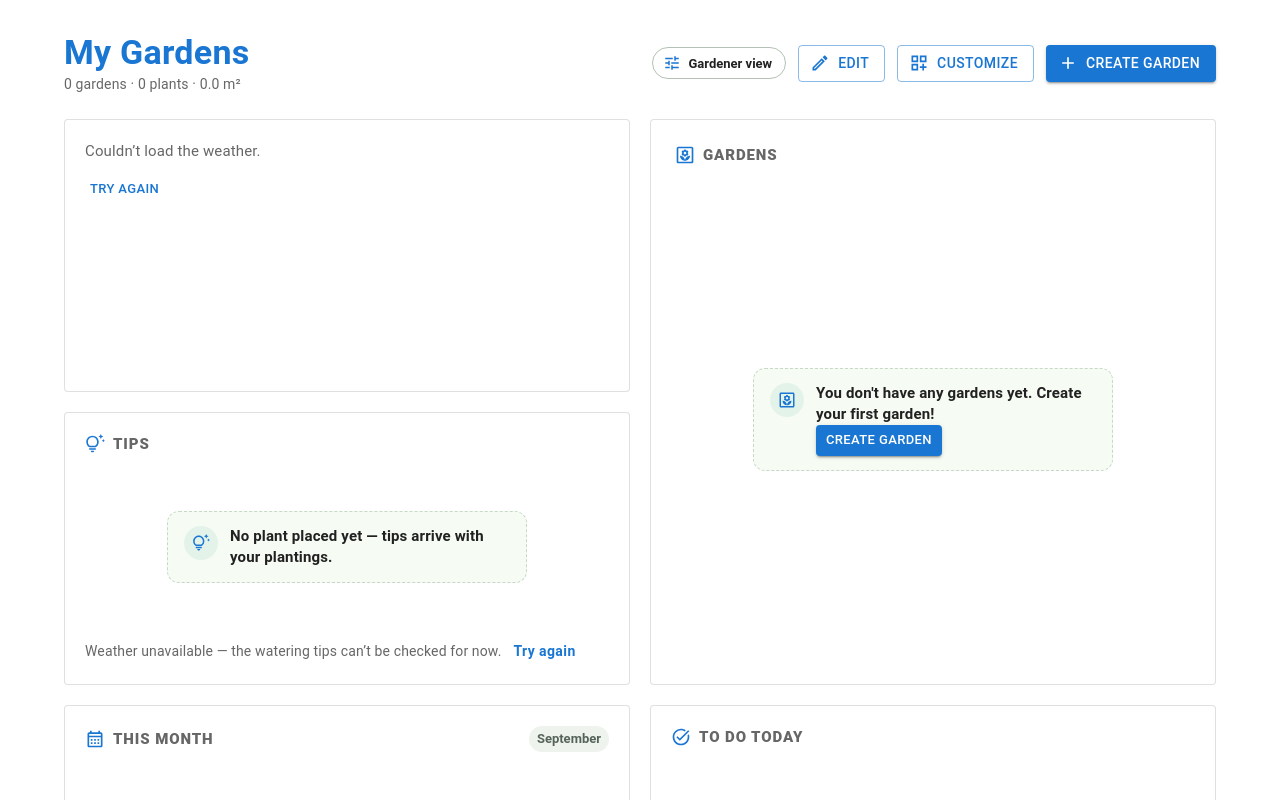
Test: GardensDashboard — Edit mode chrome (SMA-336) › a page whose weather request FAILED says the weather is unavailable — never « no place saved » (round 3, E2 a)
The image size is (1280, 800).
Click the button "Edit": click(842, 63) [798, 45, 885, 82]
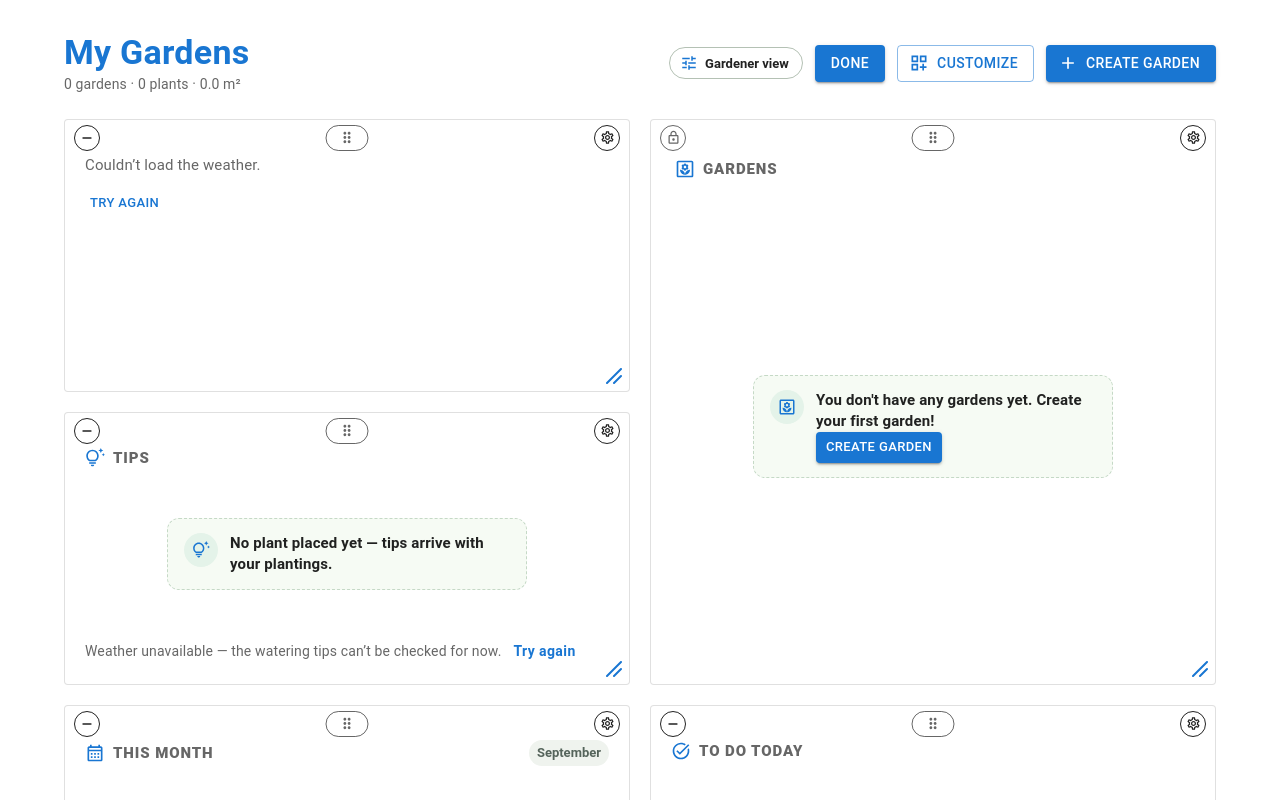
Click the button named "Weather options": click(607, 138) [594, 125, 620, 151]
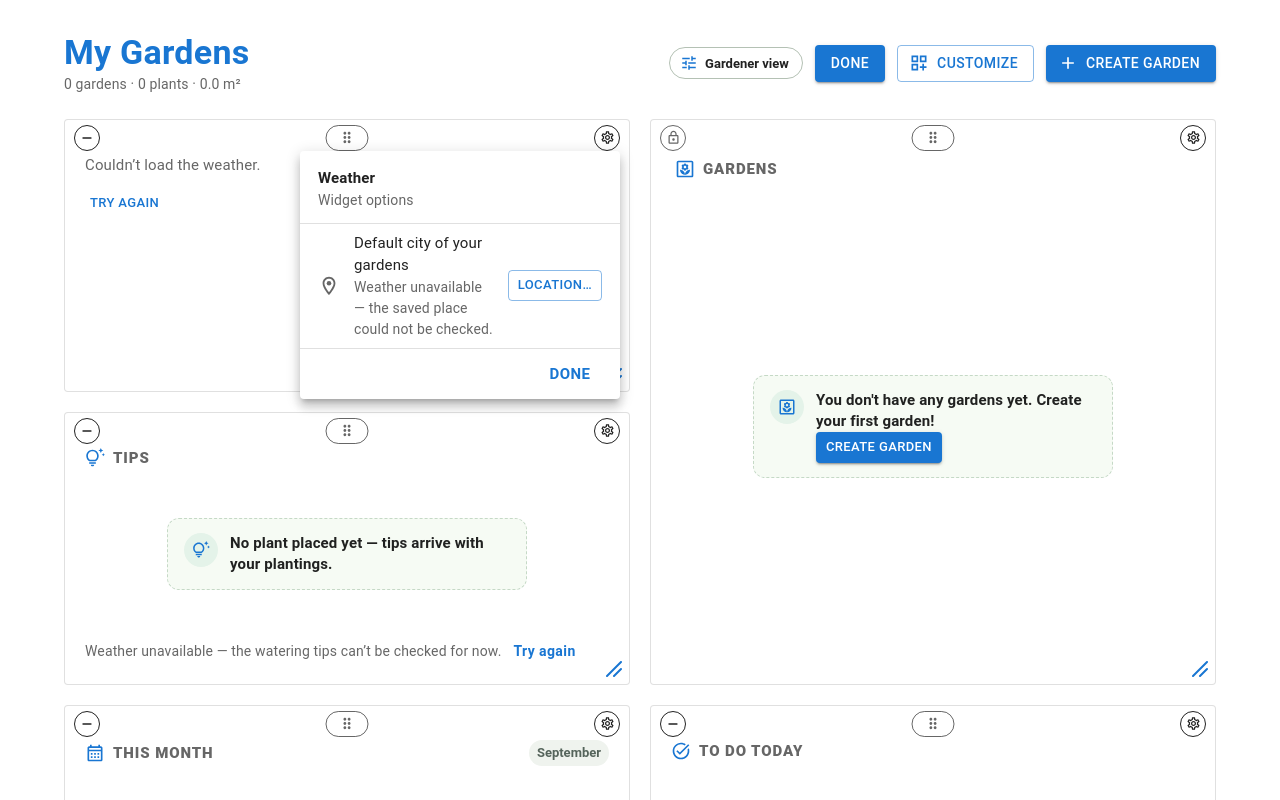
Expected: the text "Weather unavailable — the saved place could not be checked." is shown, [354, 276, 494, 340]
Click the button "Location…": click(555, 286) [508, 270, 602, 301]
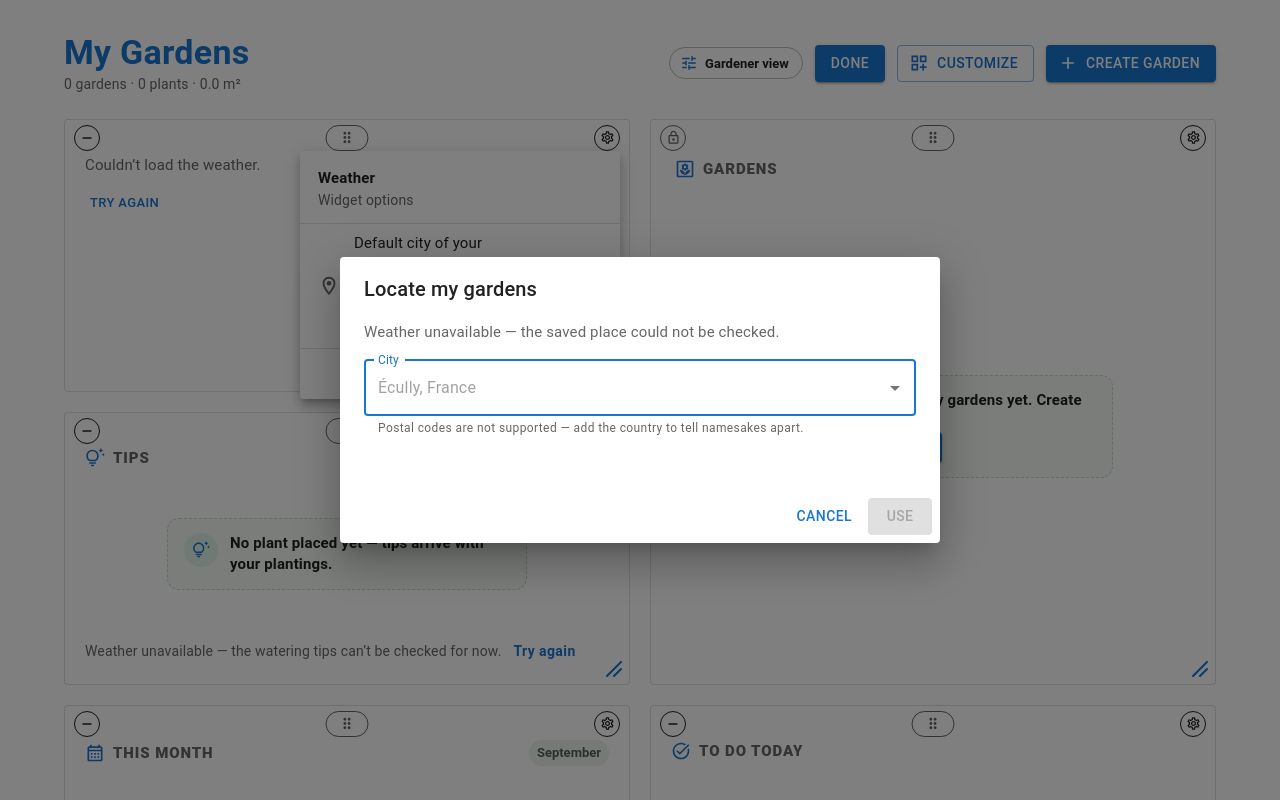
Expected: the text "Weather unavailable — the saved place could not be checked." is shown, [364, 323, 780, 341]
Expected: the dropdown labelled "City" is enabled, [373, 368, 877, 406]
Expected: the button "Cancel" is enabled, [788, 498, 860, 535]
